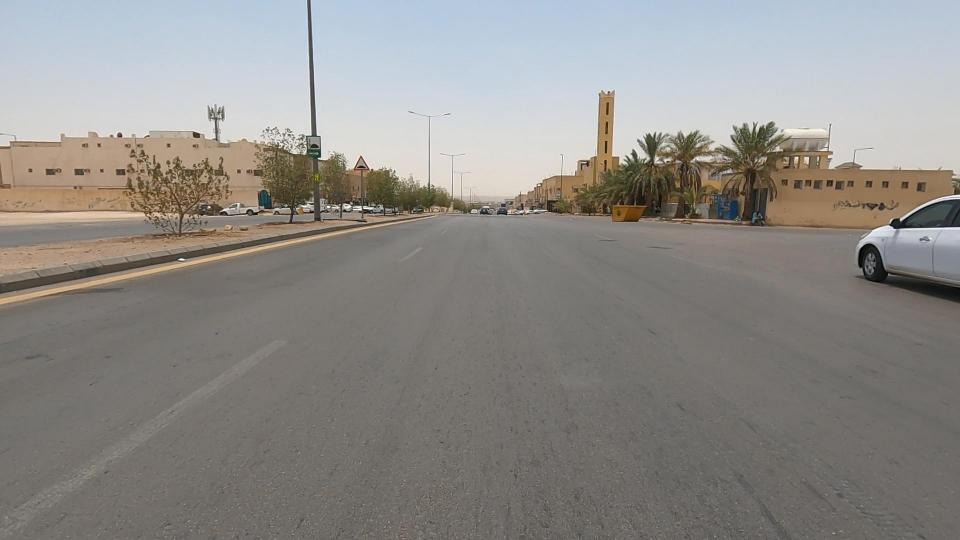GRAFFITI: (782, 174, 937, 237)
